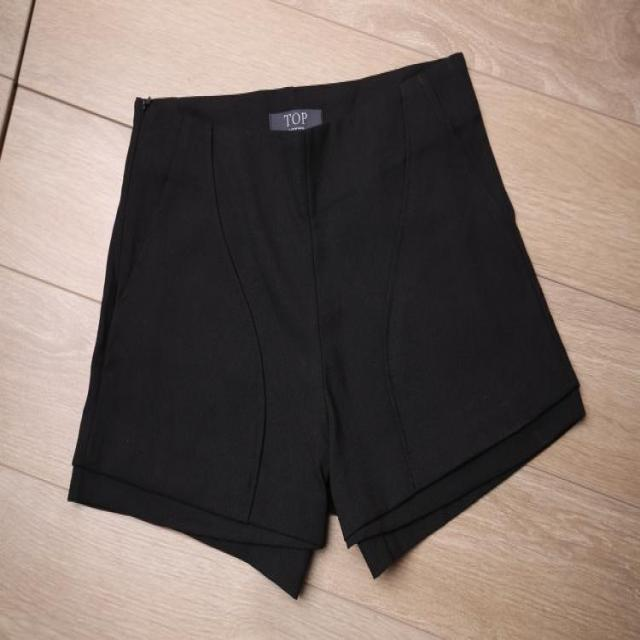shorts: (67, 56, 604, 575)
